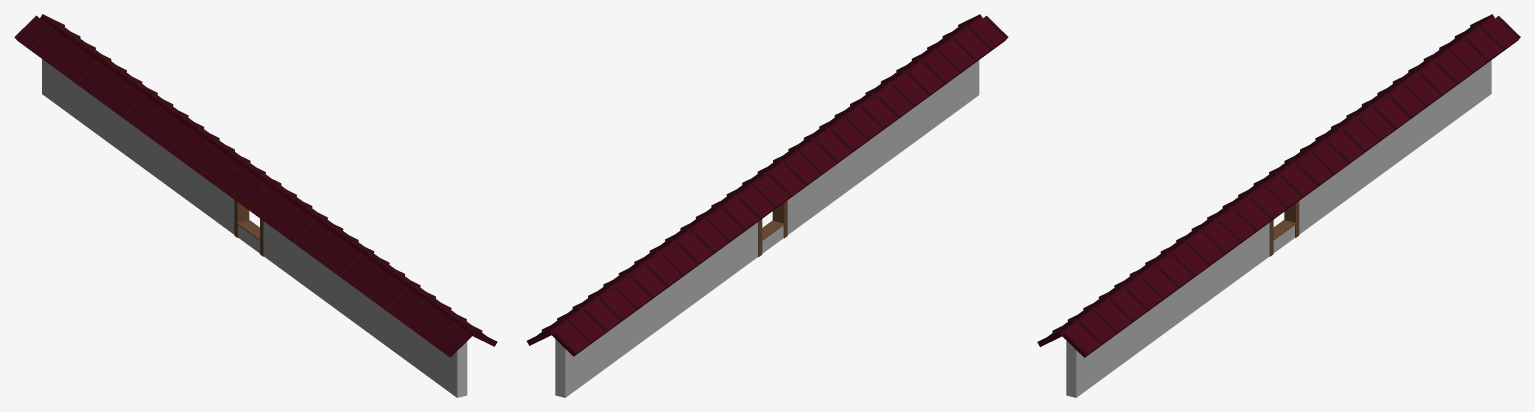
File: Kiosk.fbx
3 renders of one model, left to right at view 1: azimuth 30°, elevation 25°; view 2: azimuth 150°, elevation 25°; view 3: azimuth 330°, elevation 25°, orthographic.
Visible parts, largest first — view 1: Cube.001, Cube; view 2: Cube.001, Cube; view 3: Cube.001, Cube.
Boxes of the visible parts, box(x1,y1,x2,y2) form: Cube.001: box(14, 14, 497, 357); Cube: box(42, 59, 467, 397); Cube.001: box(526, 14, 1008, 356); Cube: box(555, 60, 979, 397); Cube.001: box(1037, 14, 1520, 357); Cube: box(1066, 60, 1491, 397).
Size of the model in its own units: 373 by 509 by 5546.
